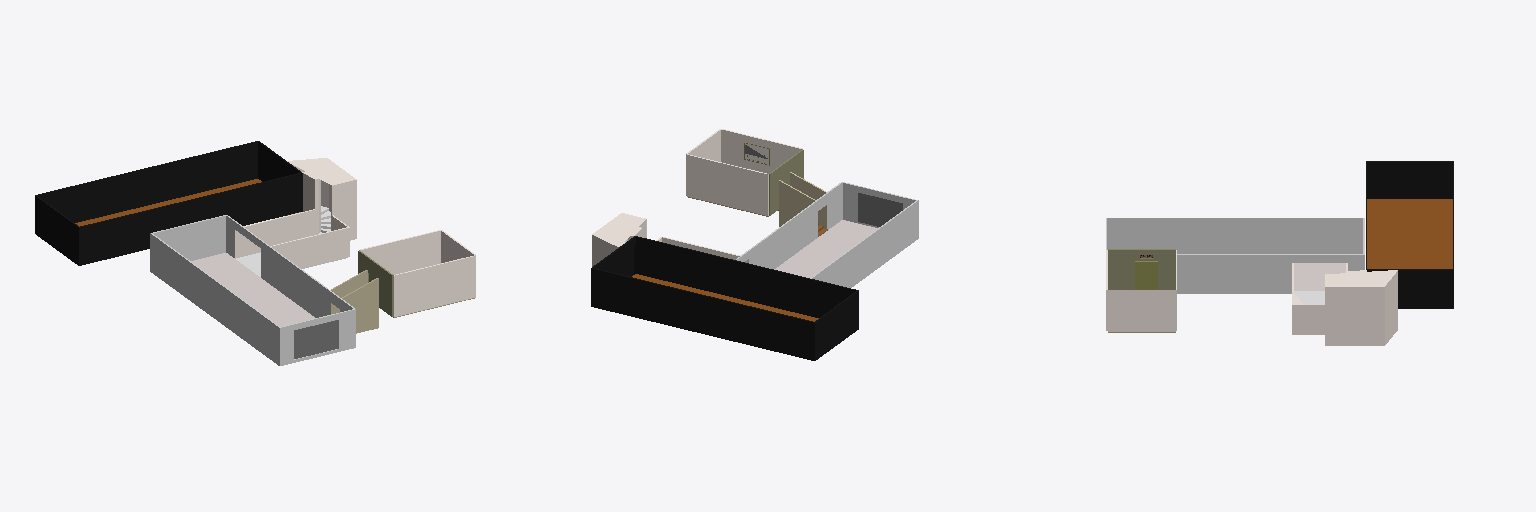
3 renders of one model, left to right at view 1: azimuth 30°, elevation 25°; view 2: azimuth 150°, elevation 25°; view 3: azimuth 270°, elevation 25°, orthographic.
Parts seen in each view (by area): view 1: Mesh21 Group24 Group23 Model, Mesh10 Group11 Model, Mesh17 Group19 Model, Mesh20 Group22 Model, Mesh33 Group38 Model, Mesh16 Group18 Model, Mesh39 Model, Mesh35 Group40 Model, Mesh36 Group41 Model, Mesh37 Group42 Model, Mesh12 Group14 Model, Mesh22 Group26 Group23 Model (+3 smaller); view 2: Mesh21 Group24 Group23 Model, Mesh10 Group11 Model, Mesh16 Group18 Model, Mesh20 Group22 Model, Mesh17 Group19 Model, Mesh33 Group38 Model, Mesh36 Group41 Model, Mesh12 Group14 Model, Mesh38 Group43 Model, Mesh22 Group26 Group23 Model, Mesh15 Group17 Model, Mesh37 Group42 Model; view 3: Mesh10 Group11 Model, Mesh22 Group26 Group23 Model, Mesh21 Group24 Group23 Model, Mesh33 Group38 Model, Mesh15 Group17 Model, Mesh12 Group14 Model, Mesh39 Model, Mesh20 Group22 Model, Mesh13 Group15 Model.
Boxes of the visible parts, box(x1,y1,x2,y2) form: Mesh21 Group24 Group23 Model: box(35, 141, 302, 265); Mesh10 Group11 Model: box(150, 215, 355, 365); Mesh17 Group19 Model: box(394, 255, 475, 316); Mesh20 Group22 Model: box(191, 253, 314, 326); Mesh33 Group38 Model: box(287, 158, 356, 240); Mesh16 Group18 Model: box(360, 230, 440, 274); Mesh39 Model: box(271, 215, 349, 268); Mesh35 Group40 Model: box(236, 209, 314, 257); Mesh36 Group41 Model: box(294, 320, 338, 358); Mesh37 Group42 Model: box(342, 278, 378, 333); Mesh12 Group14 Model: box(358, 250, 393, 316); Mesh22 Group26 Group23 Model: box(75, 179, 261, 226); Mesh21 Group24 Group23 Model: box(591, 236, 858, 360); Mesh10 Group11 Model: box(736, 182, 918, 287); Mesh16 Group18 Model: box(687, 154, 768, 215); Mesh20 Group22 Model: box(774, 220, 877, 277); Mesh17 Group19 Model: box(721, 129, 802, 173); Mesh33 Group38 Model: box(592, 213, 646, 266); Mesh36 Group41 Model: box(858, 193, 902, 226); Mesh12 Group14 Model: box(769, 149, 803, 215); Mesh38 Group43 Model: box(779, 180, 815, 226); Mesh22 Group26 Group23 Model: box(632, 274, 818, 321); Mesh15 Group17 Model: box(686, 129, 720, 195); Mesh37 Group42 Model: box(790, 172, 826, 228); Mesh10 Group11 Model: box(1106, 218, 1364, 293); Mesh22 Group26 Group23 Model: box(1367, 199, 1452, 268); Mesh21 Group24 Group23 Model: box(1366, 161, 1453, 308); Mesh33 Group38 Model: box(1325, 270, 1397, 345); Mesh15 Group17 Model: box(1108, 290, 1175, 331); Mesh12 Group14 Model: box(1108, 249, 1175, 289); Mesh39 Model: box(1292, 263, 1324, 334); Mesh20 Group22 Model: box(1294, 263, 1345, 290); Mesh13 Group15 Model: box(1135, 261, 1157, 289).
Size of the model in its own units: 18.2 by 4.05 by 20.47.
15 materials, 1 textured.